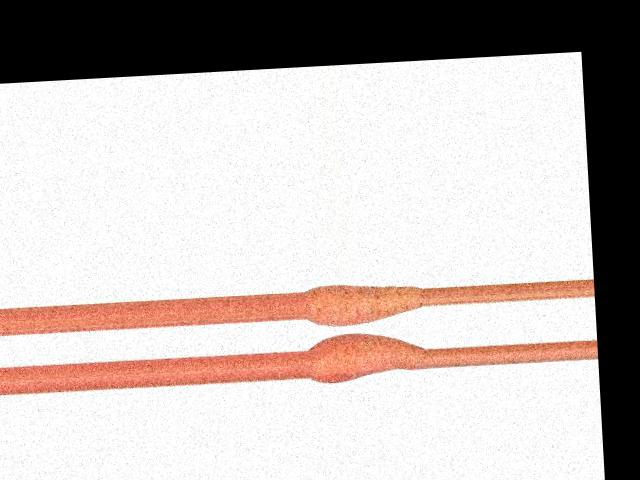sweet_potato: (303, 281, 421, 328)
